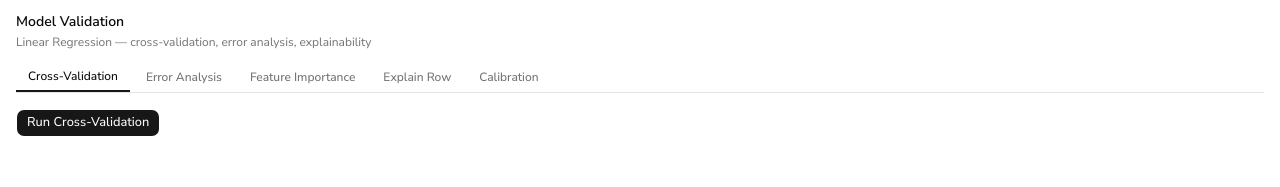
Test: ValidationPanel — sub-tab navigation › shows error when metrics API fails
Click the tab "Cross-Validation" at (73, 77), box [16,62,130,92]
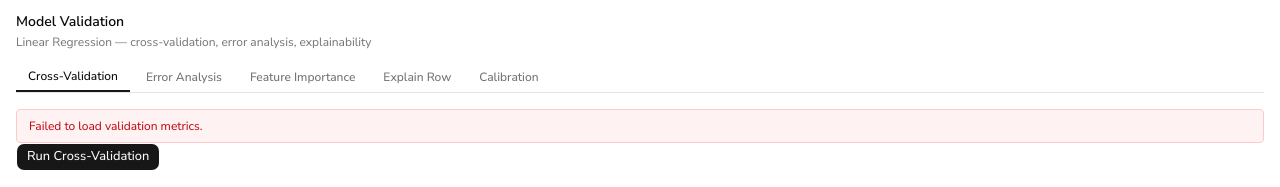
expect the text "Failed to load validation metrics." is shown: met, box [16,109,1264,143]
